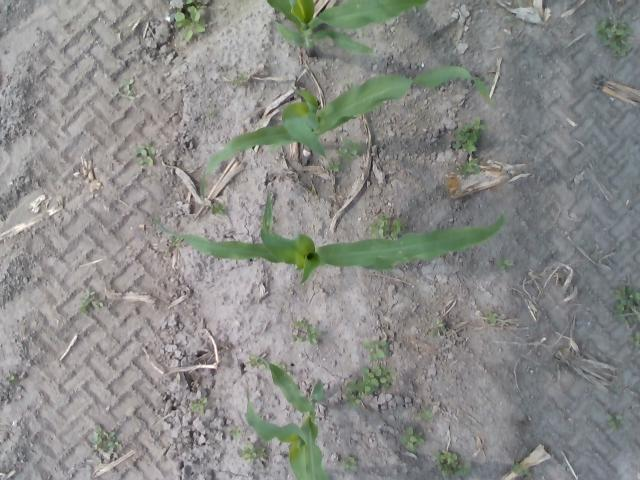Maize: (200, 66, 496, 200), (149, 190, 506, 284), (245, 358, 338, 480), (266, 0, 429, 58)
Weeds: (599, 17, 633, 56), (174, 6, 207, 46), (614, 286, 640, 332), (348, 369, 388, 396), (453, 116, 482, 152), (436, 450, 470, 480), (292, 318, 324, 342), (371, 214, 402, 236), (93, 426, 119, 448), (78, 294, 105, 314), (242, 442, 268, 462), (367, 338, 391, 358), (404, 426, 424, 448), (430, 317, 448, 338), (137, 145, 156, 164), (338, 140, 360, 156), (458, 157, 479, 171), (340, 456, 358, 472), (120, 78, 136, 96), (187, 399, 209, 412), (510, 463, 530, 476), (210, 200, 225, 216), (497, 256, 514, 270), (328, 156, 342, 172), (605, 408, 622, 421), (246, 358, 264, 370), (629, 332, 640, 350), (418, 408, 434, 420), (486, 311, 499, 324), (348, 394, 360, 407)
